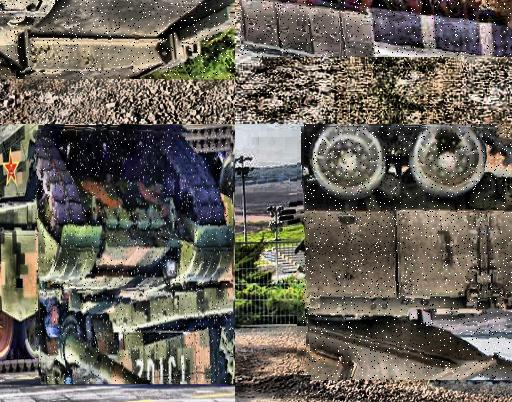tanks: (303, 126, 512, 381), (37, 131, 234, 384), (1, 125, 163, 361), (1, 1, 236, 79), (241, 1, 512, 58)
